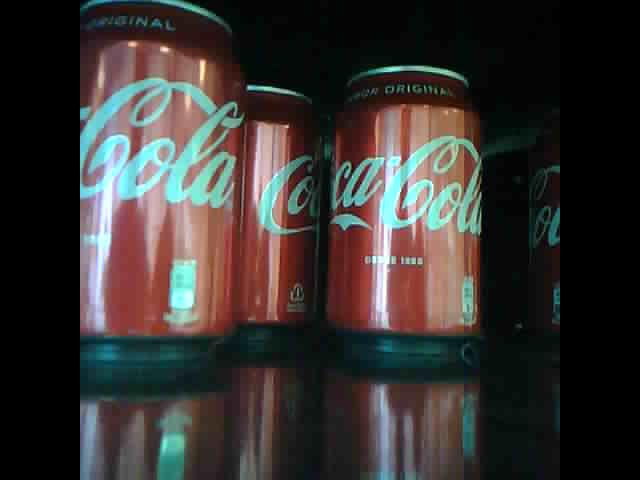coca cola: (79, 1, 247, 375), (323, 62, 484, 366), (239, 76, 321, 340), (516, 156, 560, 355)
